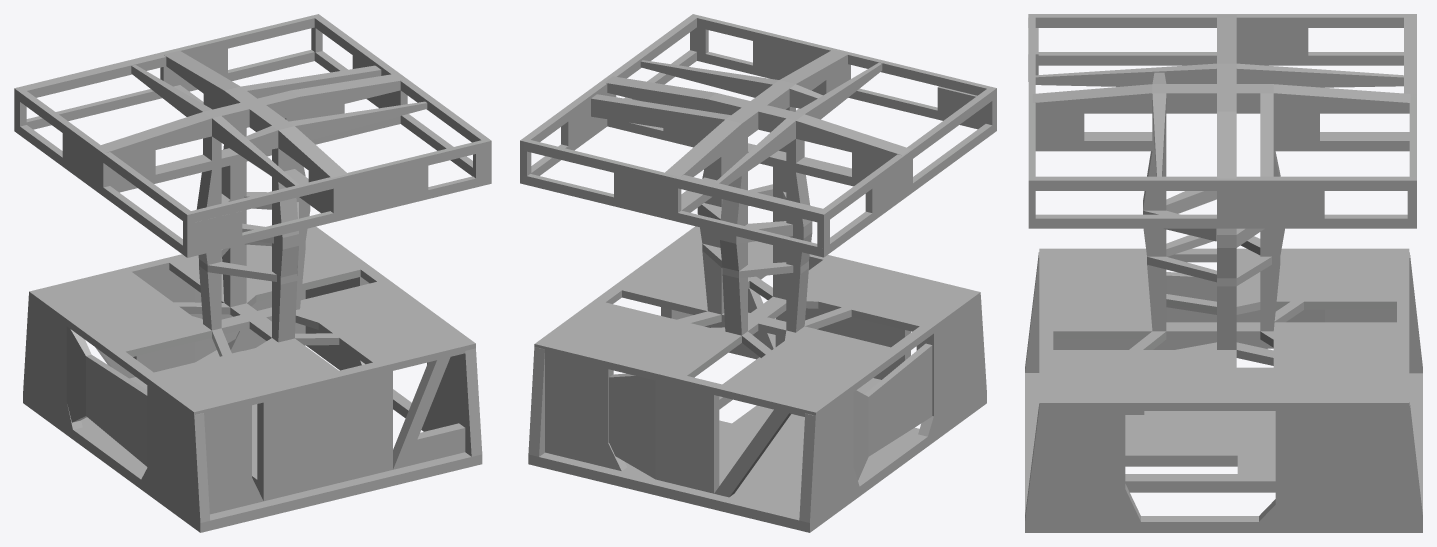
File: LargeJumpDriveCharger_Large_Constr3.fbx
The picture shows the model from 3 angles, left to right: view 1: azimuth 30°, elevation 25°; view 2: azimuth 150°, elevation 25°; view 3: azimuth 270°, elevation 25°; orthographic projection. The views are drawn at different scales.
Visible parts, largest first — view 1: Cube.003; view 2: Cube.003; view 3: Cube.003.
Part boxes in pixels (x1,y1,x2,y2): Cube.003: (14,14,491,532); Cube.003: (520,14,996,532); Cube.003: (1025,14,1422,532).
Bounding box in the file's own units: 7.47 × 7.7 × 7.54.
